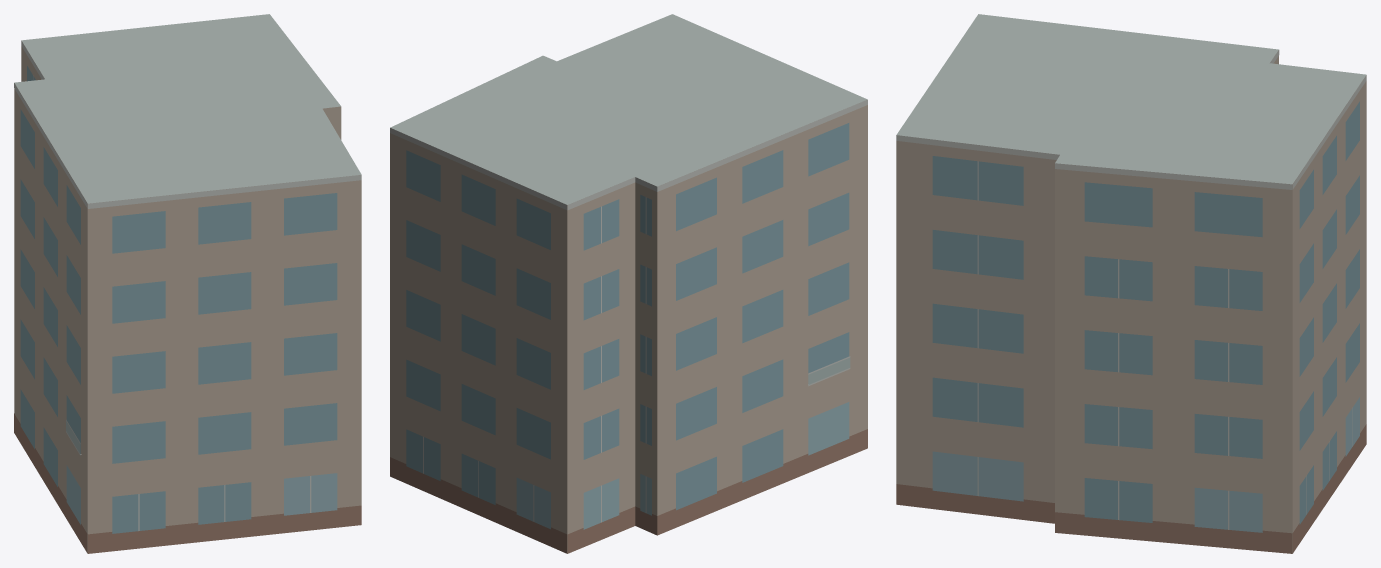
File: survey-upis-32944554.glb
3 views of the same model, side by side, from view 1: azimuth 30°, elevation 25°; view 2: azimuth 150°, elevation 25°; view 3: azimuth 270°, elevation 25° (orthographic). The views are drawn at different scales.
Visible parts, largest first — view 1: survey-upis-32944554.tmp; view 2: survey-upis-32944554.tmp; view 3: survey-upis-32944554.tmp.
Part boxes in pixels (box(x1,y1,x2,y2)): survey-upis-32944554.tmp: box(14, 14, 361, 553); survey-upis-32944554.tmp: box(390, 14, 867, 553); survey-upis-32944554.tmp: box(896, 14, 1366, 553).
Bounding box in the file's own units: 15.63 × 15.8 × 18.24.
